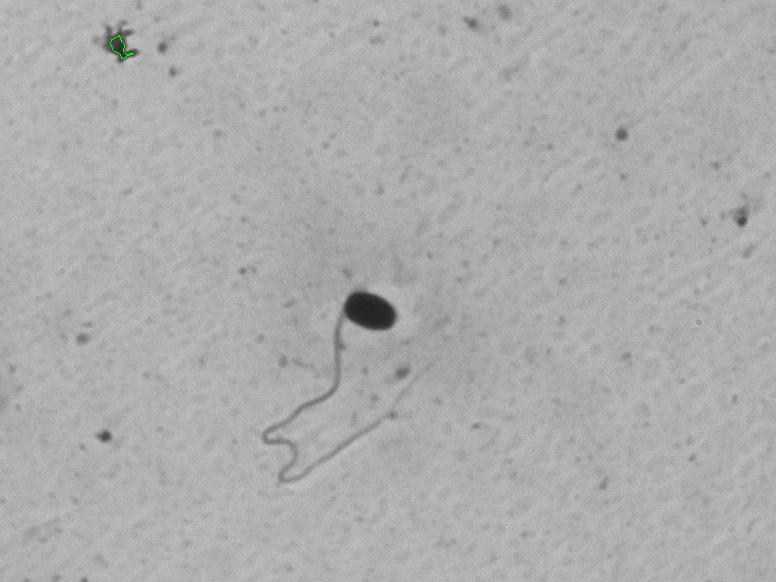Abnormal: (188, 234, 463, 515)
